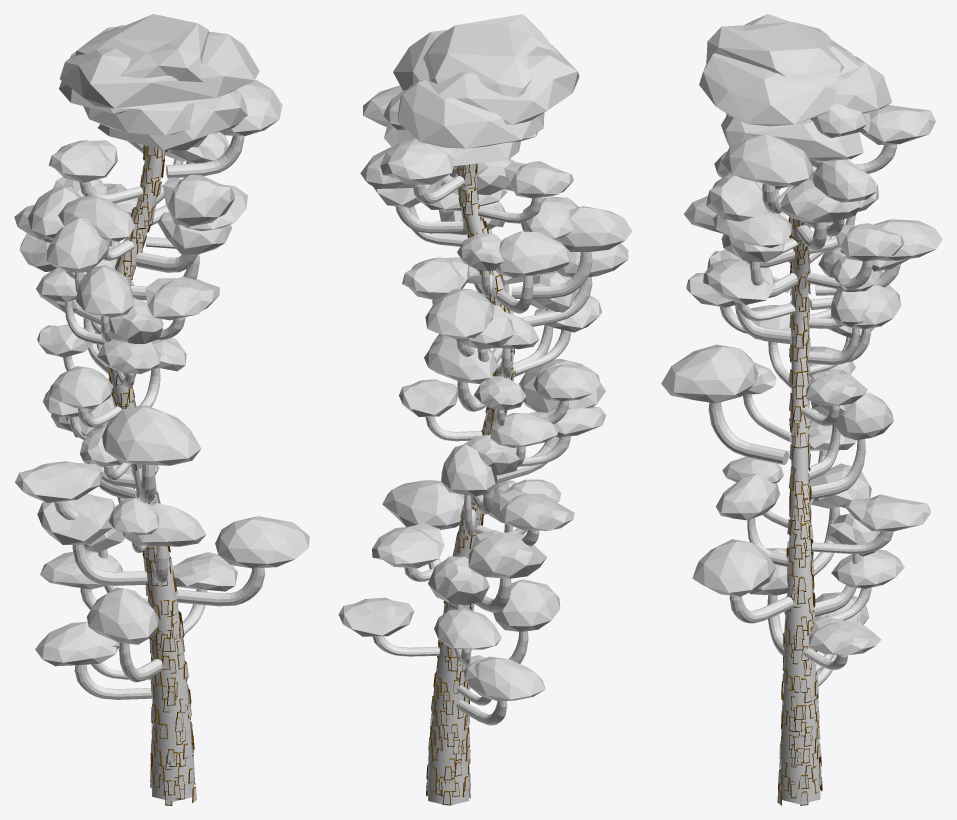
File: Tree06.fbx
3 views of the same model, side by side, from view 1: azimuth 30°, elevation 25°; view 2: azimuth 150°, elevation 25°; view 3: azimuth 270°, elevation 25° (orthographic). The views are drawn at different scales.
Visible parts, largest first — view 1: Tree06; view 2: Tree06; view 3: Tree06.
Boxes of the visible parts, box(x1,y1,x2,y2) form: Tree06: box(14, 14, 309, 805); Tree06: box(338, 14, 632, 805); Tree06: box(661, 14, 942, 805).
Size of the model in its own units: 726 by 2153 by 727.
